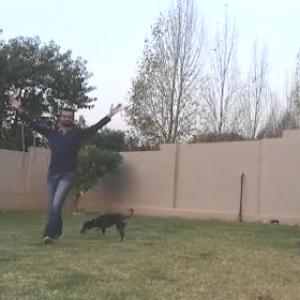takeoff: (14, 102, 134, 242)
